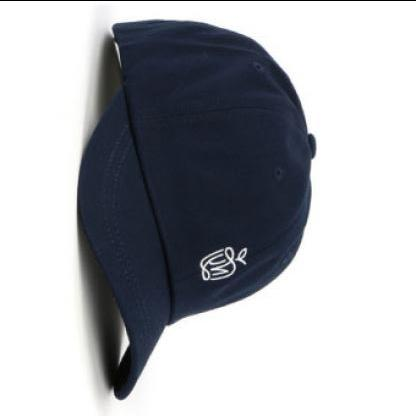cap: (64, 11, 320, 405)
